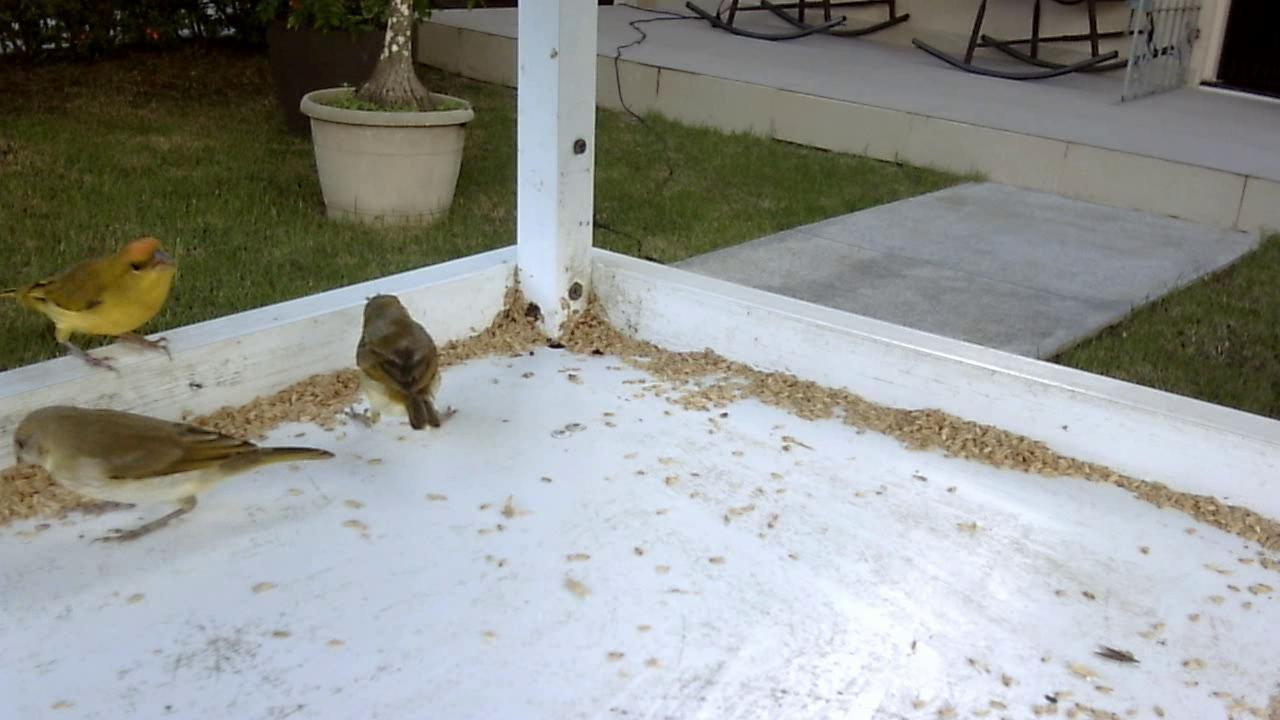canario_do_amazonas: (11, 398, 335, 545), (9, 233, 187, 381), (329, 289, 453, 437)
